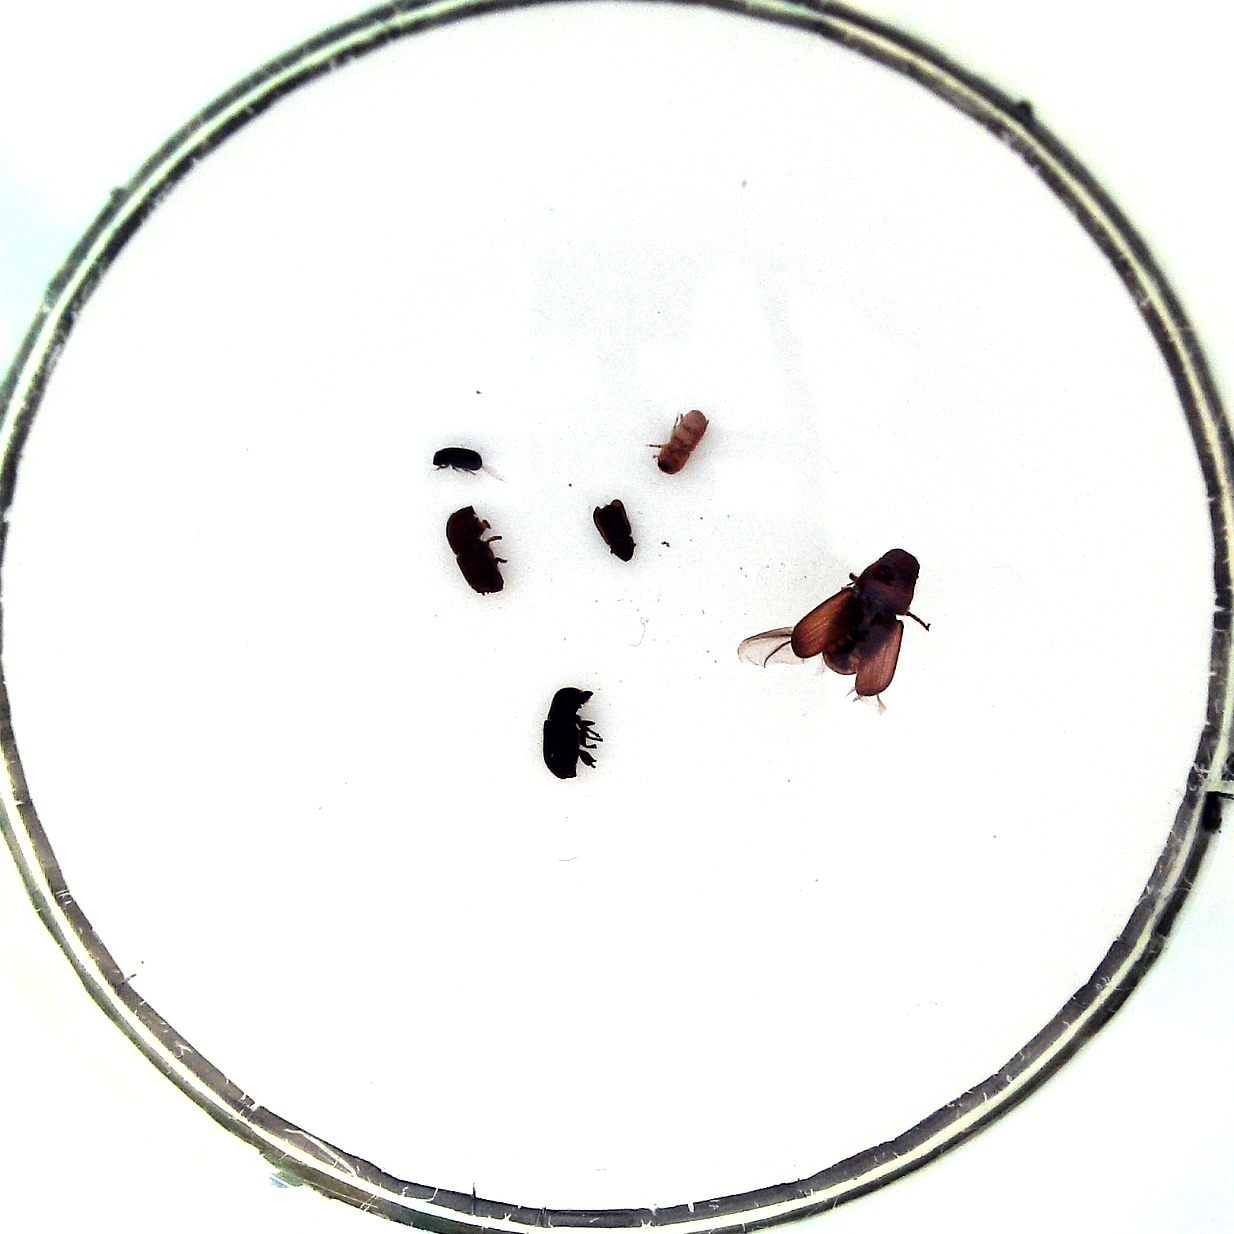Leconte: (790, 548, 920, 697)
acuminatus: (432, 447, 483, 472)
armandi: (544, 688, 593, 780)
coleoptera: (657, 410, 709, 475), (593, 499, 635, 562)
linnaeus: (446, 506, 505, 596)
